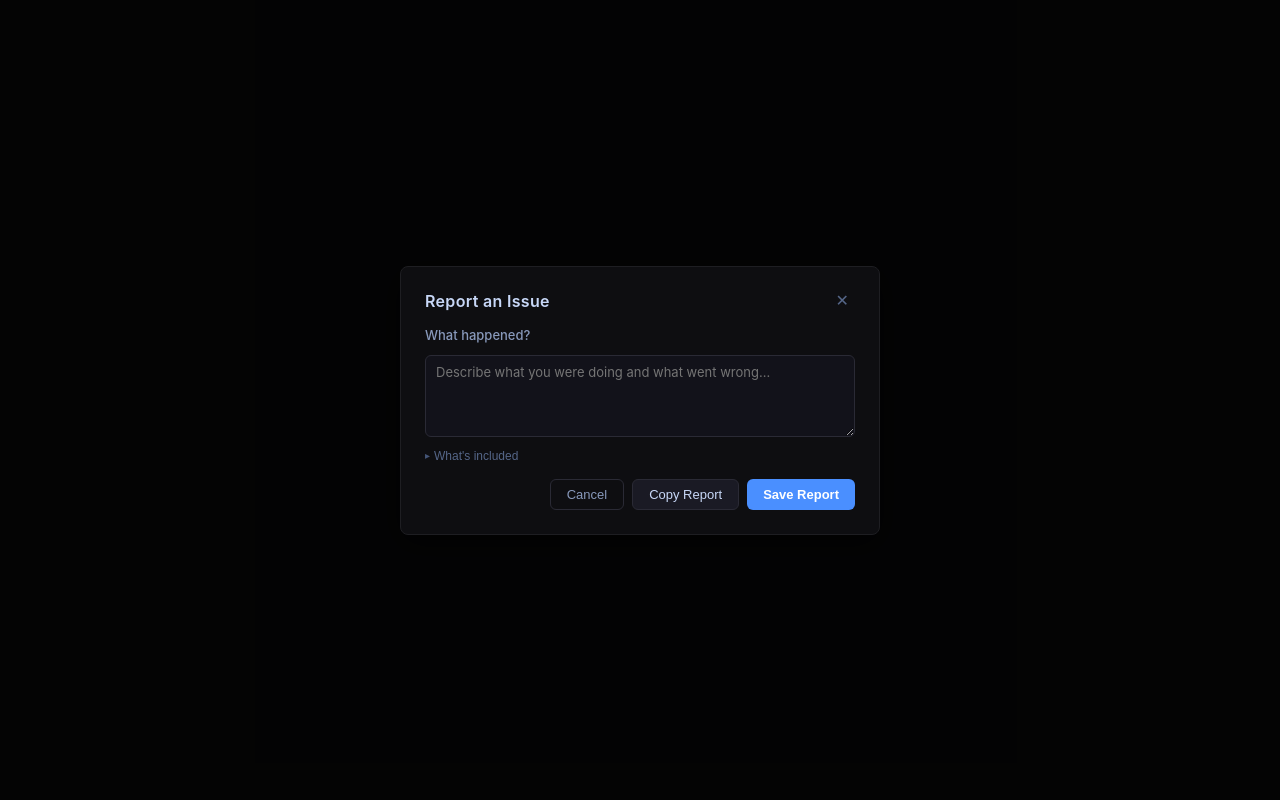
Test case: BugReportModal — disclosure › collapses again when clicked a second time
Click the button "▸ What's included".
click(476, 456)  # box [425,448,855,462]
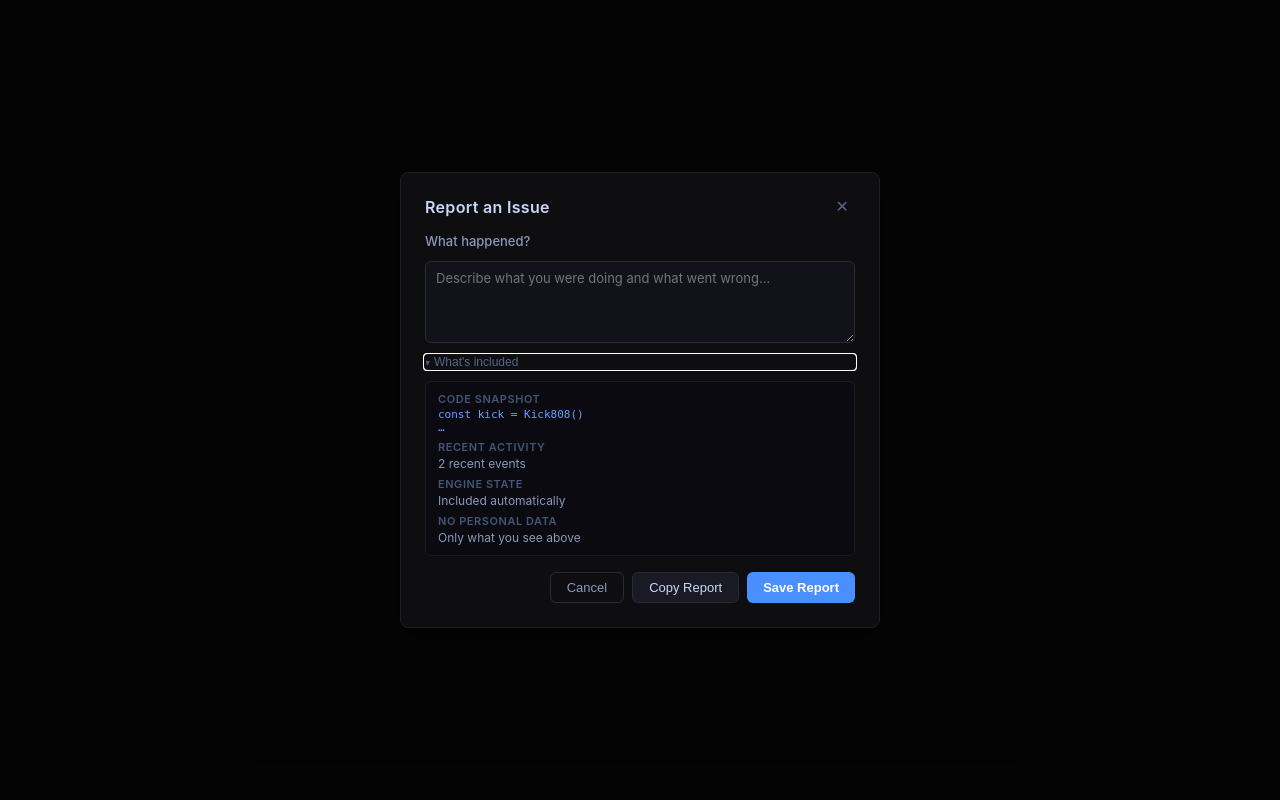
Click the button "▾ What's included".
click(476, 362)  # box [425,355,855,369]
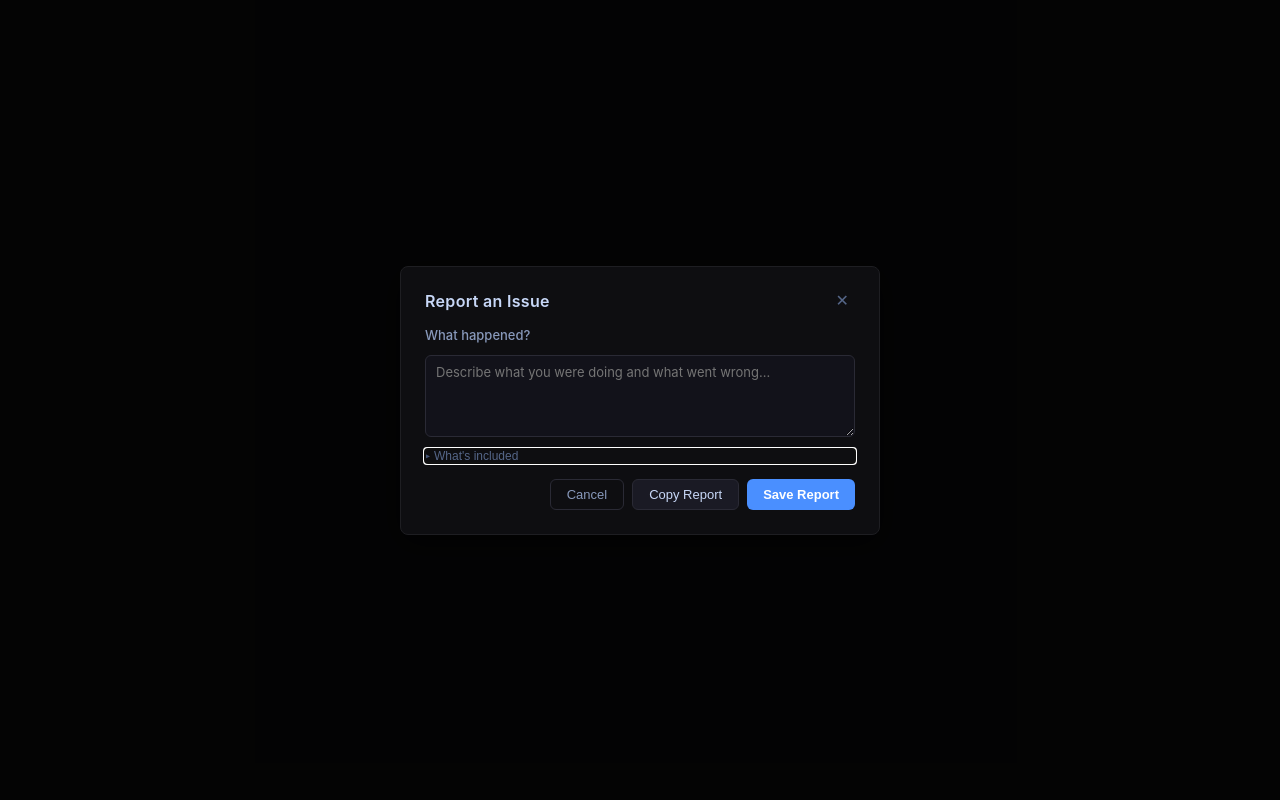
Now the text "Code snapshot" is gone
